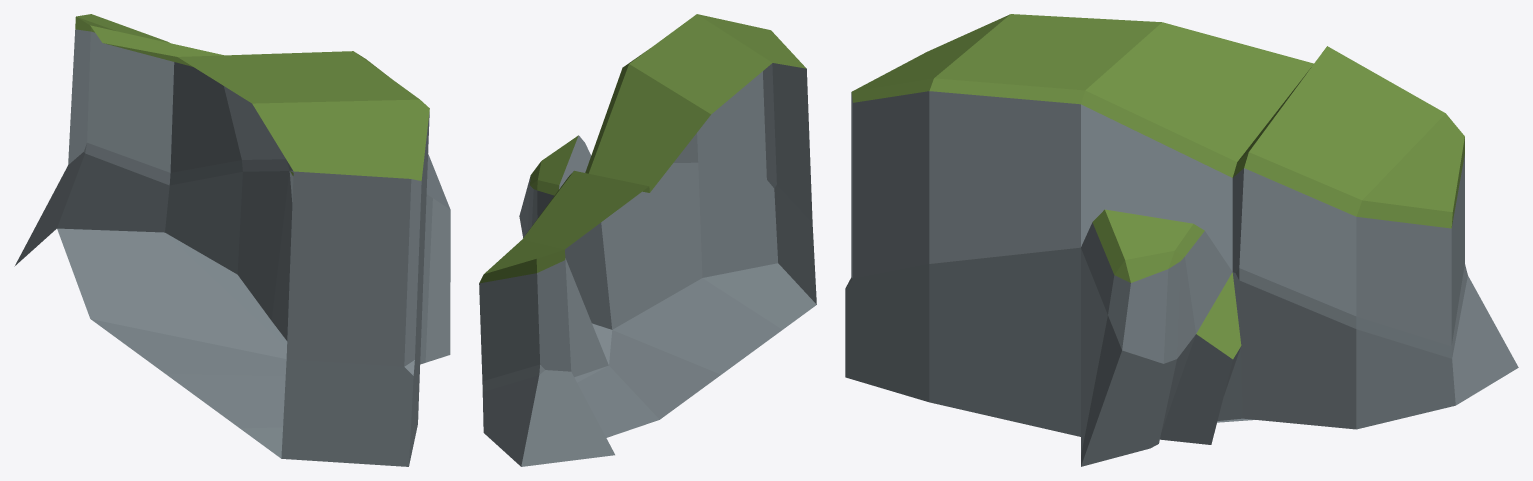
File: Grand-Rocher.fbx
The picture shows the model from 3 angles, left to right: view 1: azimuth 30°, elevation 25°; view 2: azimuth 150°, elevation 25°; view 3: azimuth 270°, elevation 25°; orthographic projection. The views are drawn at different scales.
Visible parts, largest first — view 1: Cube.014; view 2: Cube.014; view 3: Cube.014.
Boxes of the visible parts, box(x1,y1,x2,y2) form: Cube.014: box(14, 14, 450, 466); Cube.014: box(479, 14, 816, 466); Cube.014: box(845, 14, 1518, 466).
Size of the model in its own units: 544 by 649 by 1131.
